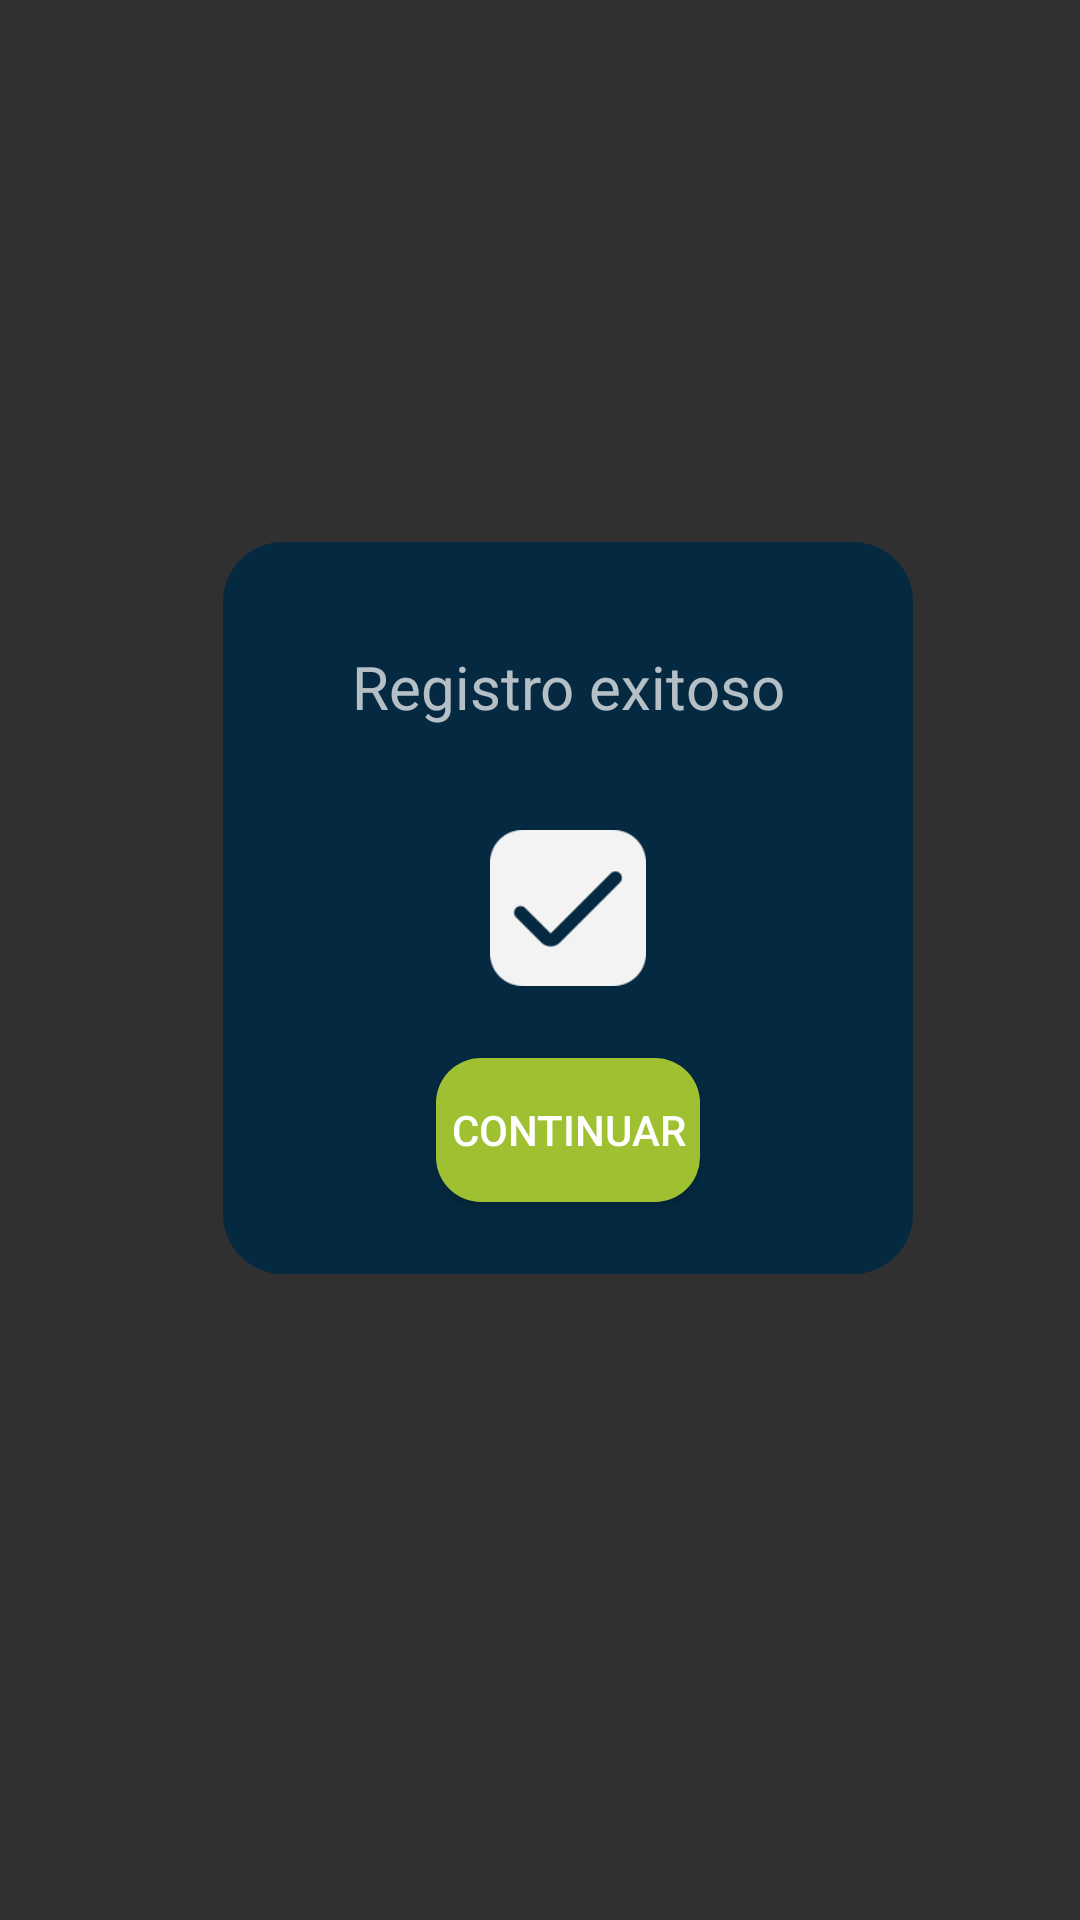

Named icons in this screenshot (1080 x 1920) and their centers, (x,y):
acept: (568,908)
